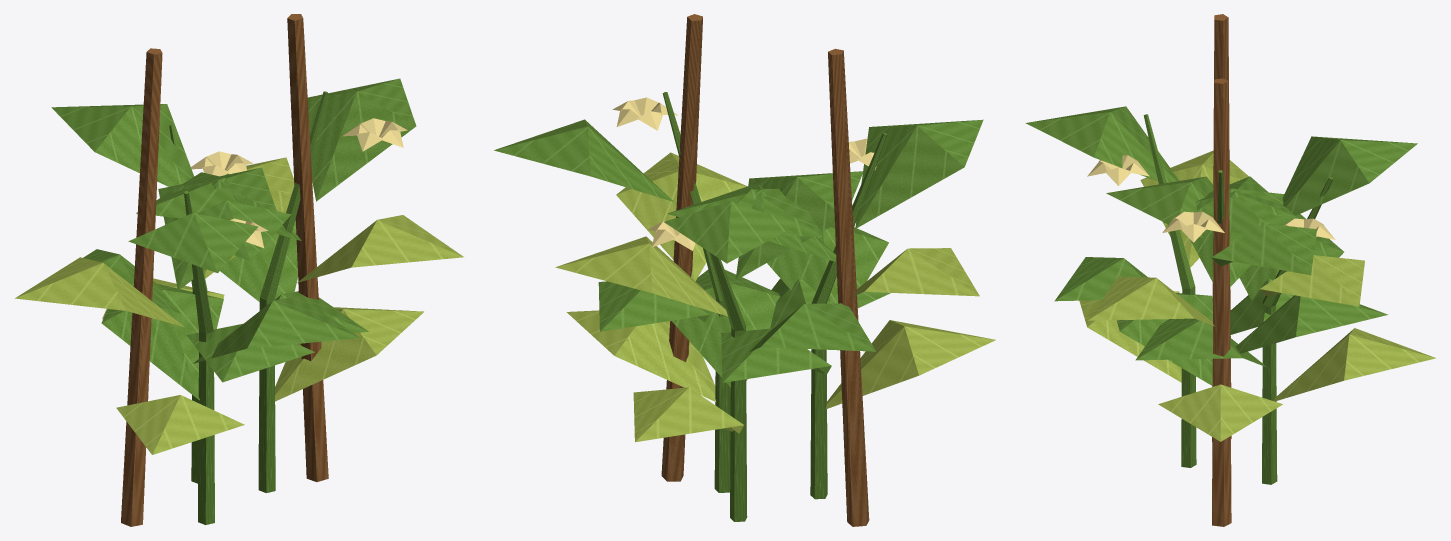
The model's file is crop-cucumber-flowering.glb.
The picture shows the model from 3 angles, left to right: view 1: azimuth 30°, elevation 25°; view 2: azimuth 150°, elevation 25°; view 3: azimuth 270°, elevation 25°; orthographic projection. The views are drawn at different scales.
Visible parts, largest first — view 1: crop-cucumber-flowering; view 2: crop-cucumber-flowering; view 3: crop-cucumber-flowering.
Part boxes in pixels (bbox=[...]): crop-cucumber-flowering: bbox=[15, 14, 463, 526]; crop-cucumber-flowering: bbox=[494, 14, 995, 526]; crop-cucumber-flowering: bbox=[1025, 14, 1435, 526].
Size of the model in its own units: 0.775 by 0.7915 by 0.6823.
1 material, 1 textured.
